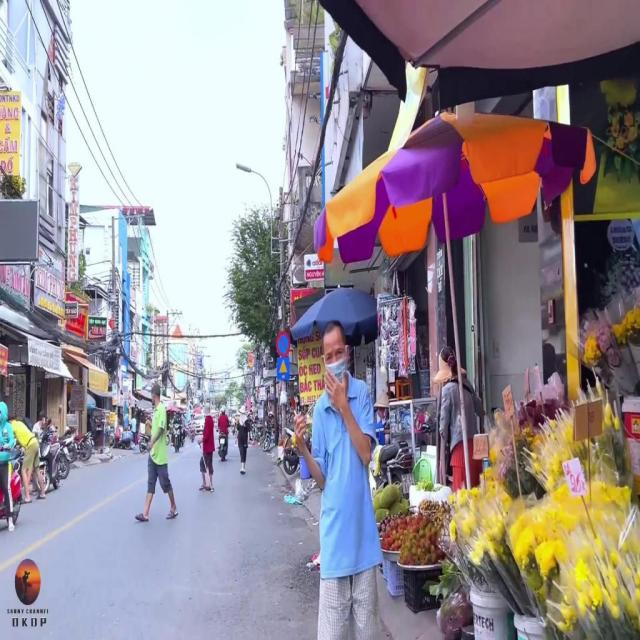cam_do_xe: (277, 332, 291, 357)
cam_o_to_tai: (128, 391, 131, 406)
cho: (276, 357, 290, 381)
